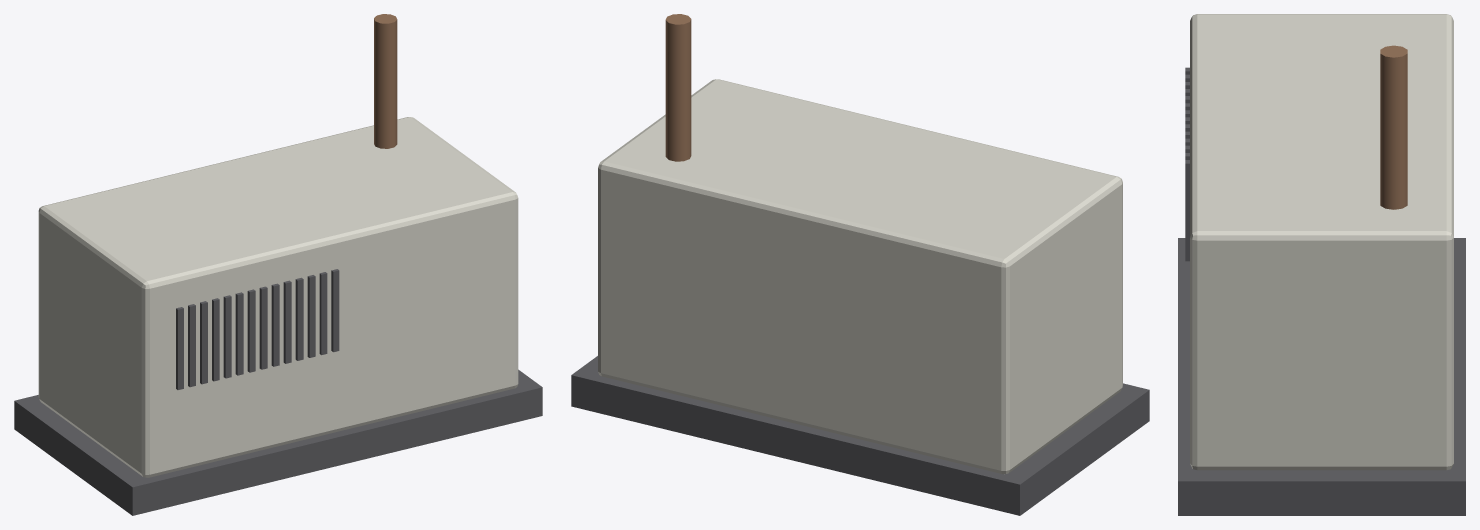
File: generator.glb
The picture shows the model from 3 angles, left to right: view 1: azimuth 30°, elevation 25°; view 2: azimuth 150°, elevation 25°; view 3: azimuth 270°, elevation 25°; orthographic projection. The views are drawn at different scales.
Parts seen in each view (by area): view 1: Enclosure, Skid, Vents, Exhaust; view 2: Enclosure, Skid, Exhaust; view 3: Enclosure, Skid, Exhaust, Vents.
Boxes of the visible parts, x1,y1,x2,y2 form: Enclosure: (38, 117, 518, 477); Skid: (14, 369, 542, 515); Vents: (176, 269, 339, 389); Exhaust: (374, 14, 397, 148); Enclosure: (598, 79, 1122, 474); Skid: (571, 356, 1149, 515); Exhaust: (665, 14, 691, 161); Enclosure: (1190, 14, 1453, 470); Skid: (1178, 238, 1465, 515); Exhaust: (1380, 45, 1407, 209); Vents: (1185, 67, 1189, 261).
Bounding box in the file's own units: 2.4 × 1.95 × 1.2.
